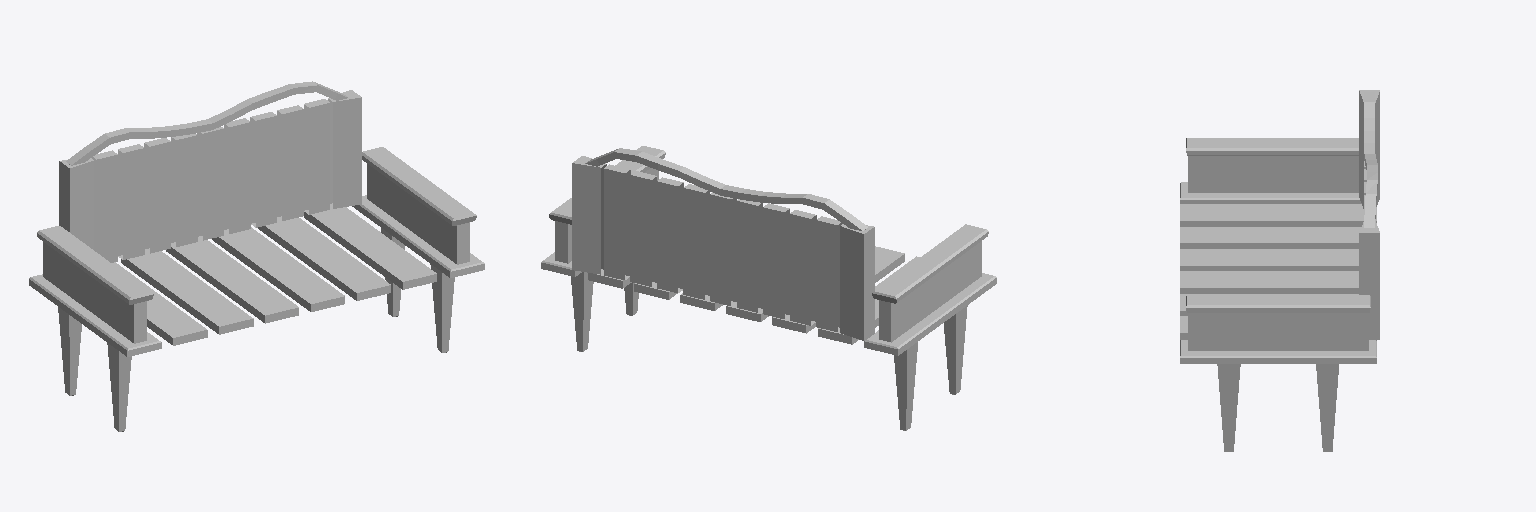
Rendered from bench.obj.
3 views of the same model, side by side, from view 1: azimuth 30°, elevation 25°; view 2: azimuth 150°, elevation 25°; view 3: azimuth 270°, elevation 25° (orthographic).
Visible parts, largest first — view 1: recordSTore_Sidewalk.007; view 2: recordSTore_Sidewalk.007; view 3: recordSTore_Sidewalk.007.
Boxes of the visible parts, x1,y1,x2,y2 form: recordSTore_Sidewalk.007: [29, 81, 484, 431]; recordSTore_Sidewalk.007: [541, 146, 996, 430]; recordSTore_Sidewalk.007: [1180, 90, 1379, 451].
Size of the model in its own units: 2.45 by 1.52 by 1.19.